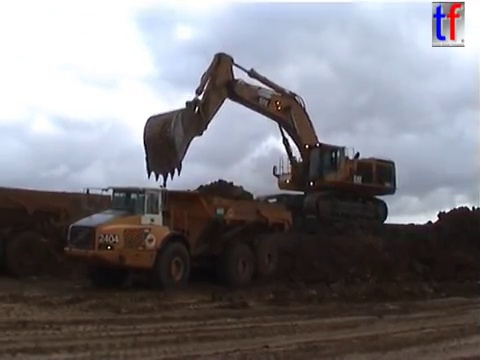excavator: (140, 50, 400, 228)
truck: (61, 180, 296, 292), (1, 184, 144, 279)
